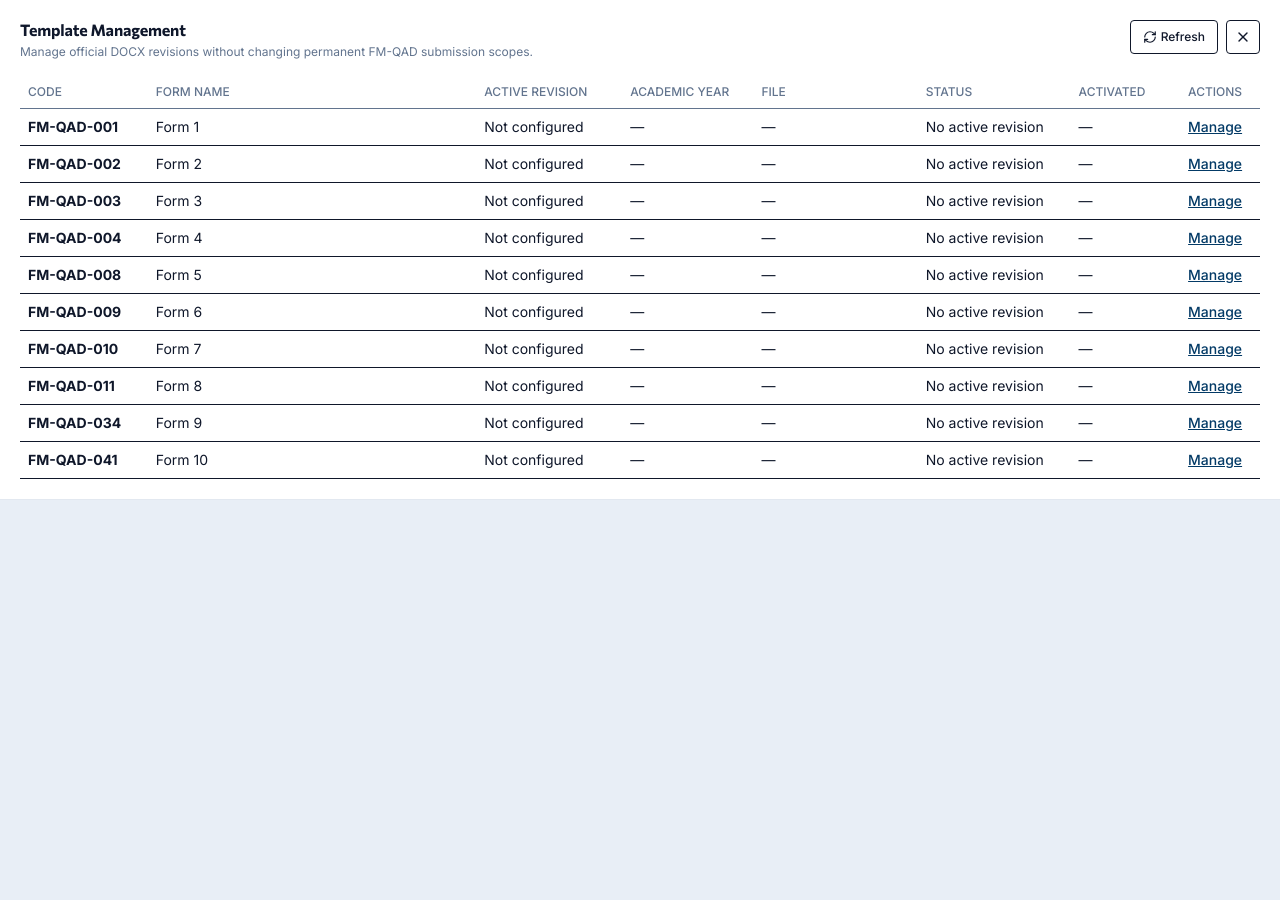
MonitorFmQadTemplateManager › explains forms whose existing revisions are inactive
This screenshot has width=1280, height=900.
Expected: the text "FM-QAD-001" is shown, [20, 108, 148, 146]
Click the button "Manage" in the row of "FM-QAD-001" at (1215, 127), box [1188, 117, 1242, 137]
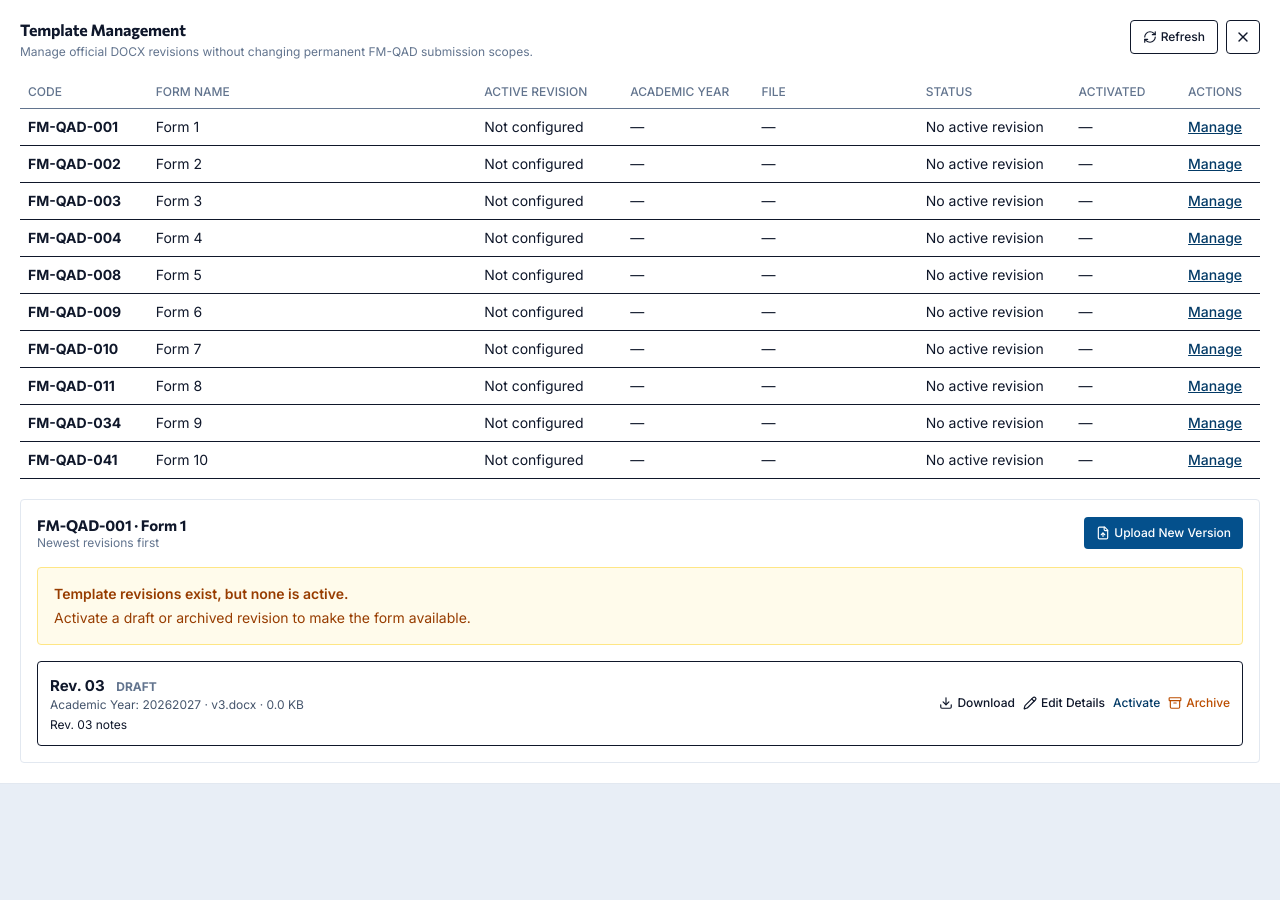
Now the text "Template revisions exist, but none is active." is shown, box [54, 585, 348, 602]
Now the text "Activate a draft or archived revision" is shown, box [54, 609, 471, 626]
Now the button "Activate" is shown, box [1113, 674, 1160, 733]
